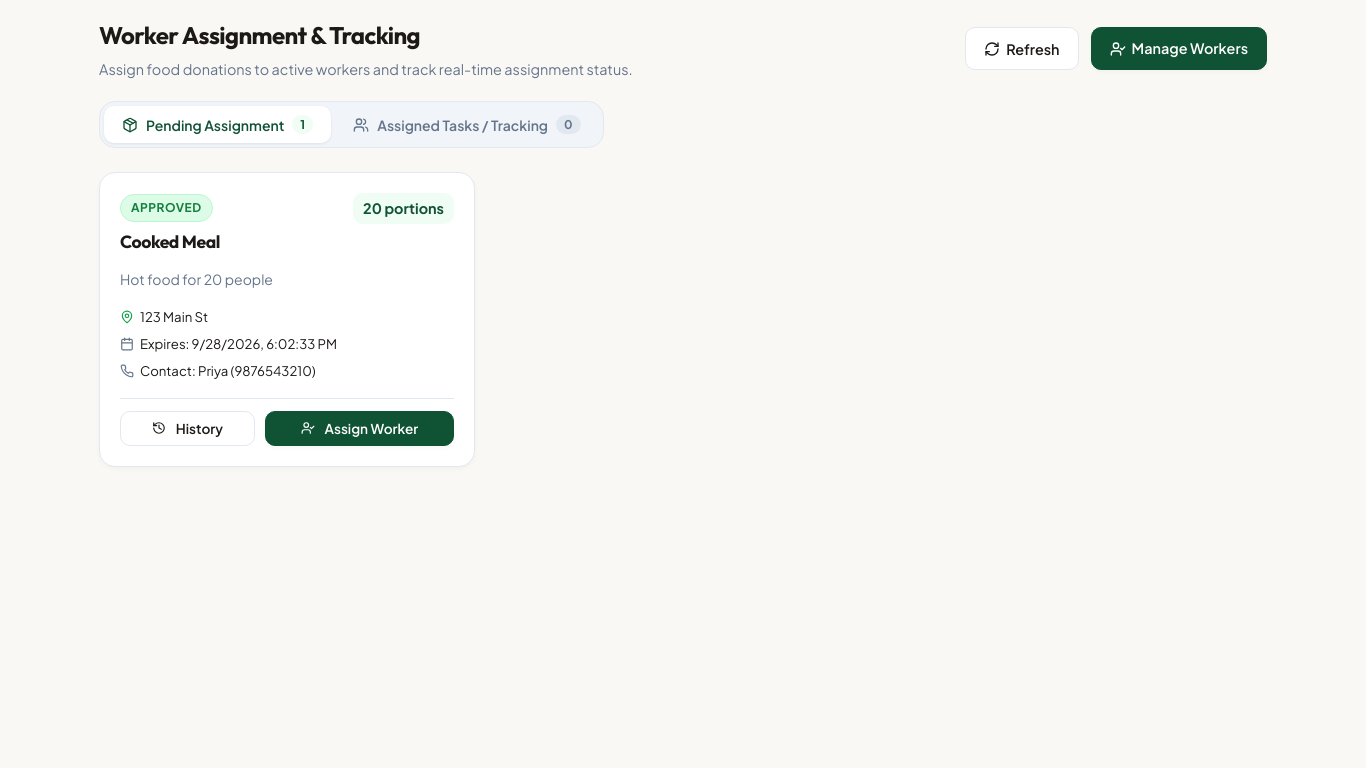
it: Frontend Module 04 — Unit & Component Tests › AdminAssignmentQueuePage Worker Selector › opens assign modal with worker selector when Assign Worker is clicked
Click the button "Assign Worker" at [359, 428], box [265,410,454,446]
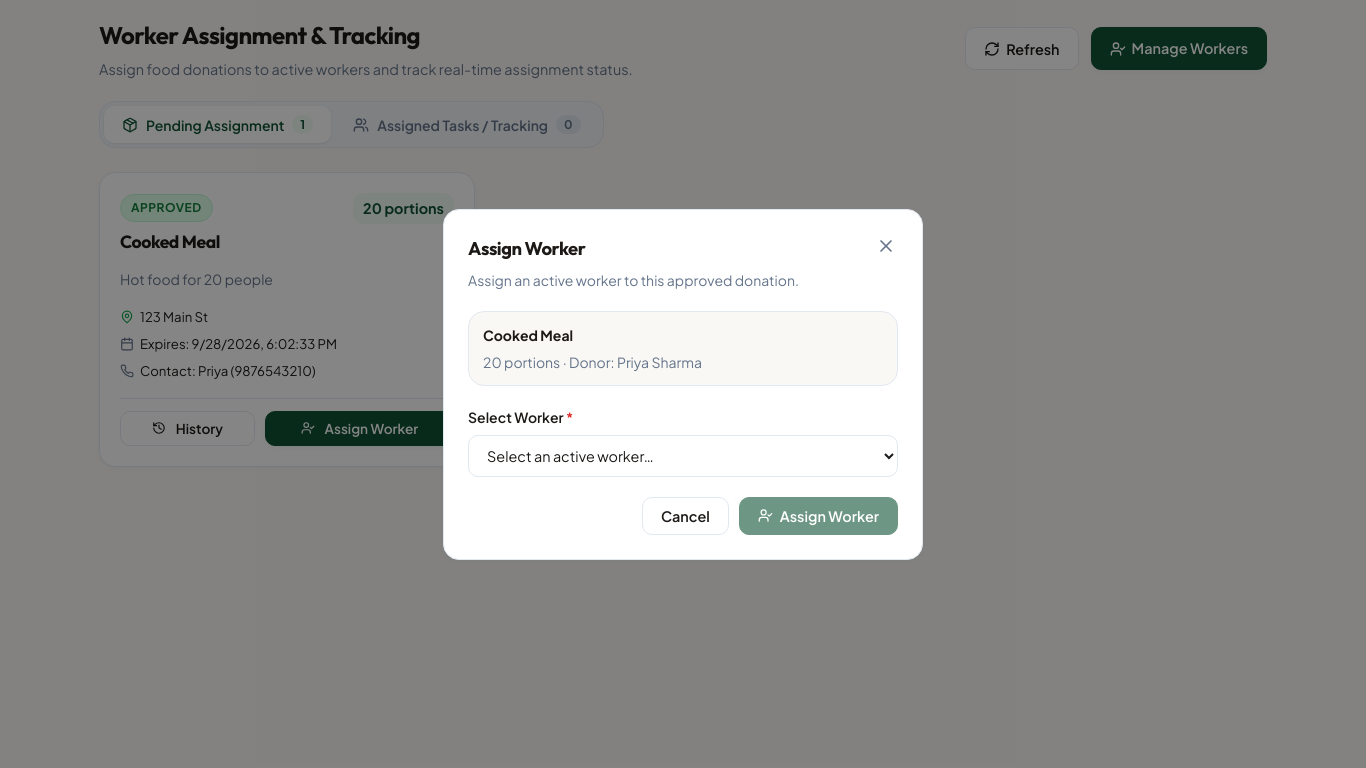
Now the dialog is shown
Now the heading "Assign Worker" is shown, box [468,234,585,263]
